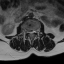CCS_normal: (30, 28, 32, 37)
LFS_normal: (34, 28, 36, 35)
LLS_normal: (32, 28, 34, 35)
RFS_stenosis: (26, 28, 28, 34)
RLS_normal: (28, 29, 30, 35)
